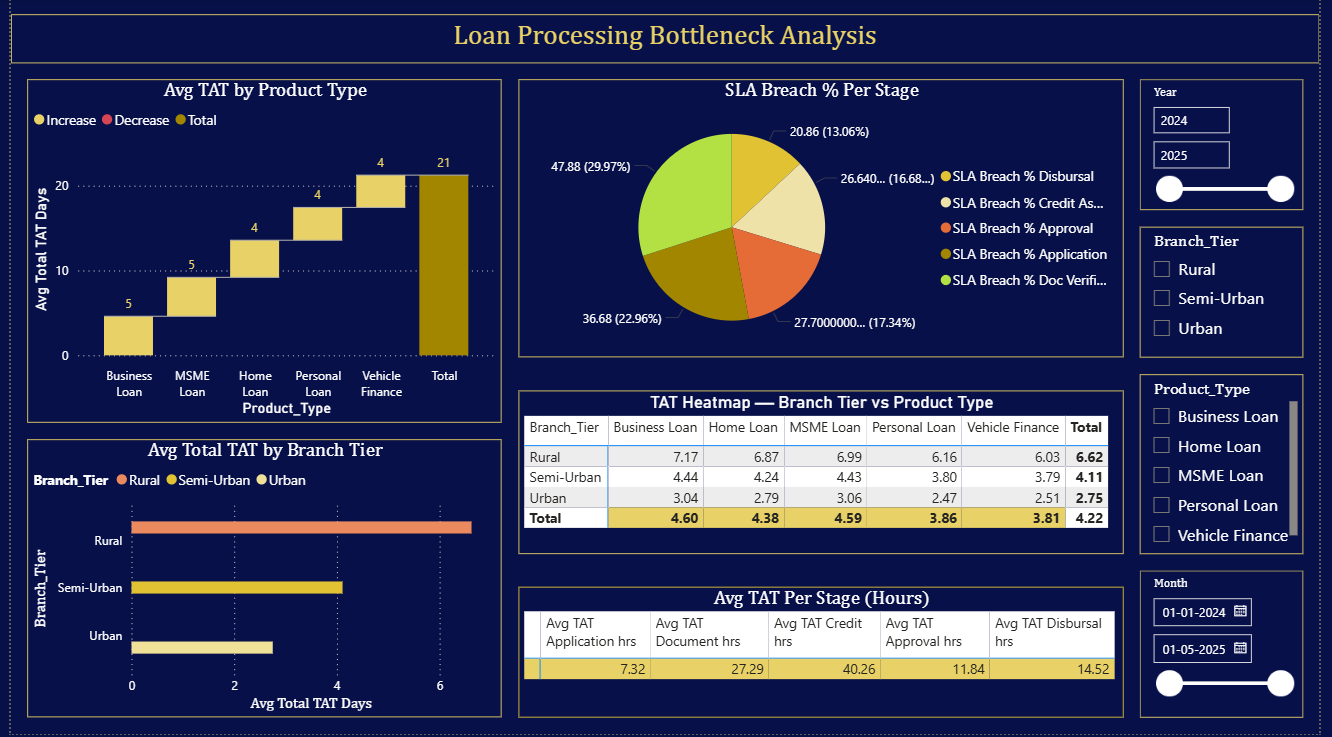

The page's visual inventory and layout, read from the dashboard file:
{"tool":"powerbi","page":{"name":"Bottleneck Deep Dive","canvas":[1280,720],"ordinal":1},"visuals":[{"type":"textbox","box":[0,16,1280,48],"z":0},{"type":"pivotTable","title":"Avg TAT Per Stage (Hours)","fields":{"Values":["AU_Bank_Loan_Operations_Data.Avg TAT Application hrs","AU_Bank_Loan_Operations_Data.Avg TAT Document hrs","AU_Bank_Loan_Operations_Data.Avg TAT Credit hrs","AU_Bank_Loan_Operations_Data.Avg TAT Approval hrs","AU_Bank_Loan_Operations_Data.Avg TAT Disbursal hrs"]},"box":[496,576,592,128],"z":1000},{"type":"clusteredBarChart","title":"Avg Total TAT by Branch Tier","fields":{"Category":["AU_Bank_Loan_Operations_Data.Branch_Tier"],"Y":["AU_Bank_Loan_Operations_Data.Avg Total TAT Days"],"Series":["AU_Bank_Loan_Operations_Data.Branch_Tier"]},"box":[16,432,464,272],"z":2000},{"type":"pieChart","title":"SLA Breach % Per Stage","fields":{"Y":["AU_Bank_Loan_Operations_Data.SLA Breach % Disbursal","AU_Bank_Loan_Operations_Data.SLA Breach % Credit Assessment","AU_Bank_Loan_Operations_Data.SLA Breach % Approval","AU_Bank_Loan_Operations_Data.SLA Breach % Application","AU_Bank_Loan_Operations_Data.SLA Breach % Doc Verification"]},"box":[496,80,592,272],"z":3000},{"type":"waterfallChart","title":"Avg TAT by Product Type","fields":{"Category":["AU_Bank_Loan_Operations_Data.Product_Type"],"Y":["AU_Bank_Loan_Operations_Data.Avg Total TAT Days"]},"box":[16,80,464,336],"z":4000},{"type":"pivotTable","title":"TAT Heatmap — Branch Tier vs Product Type","fields":{"Columns":["AU_Bank_Loan_Operations_Data.Product_Type"],"Rows":["AU_Bank_Loan_Operations_Data.Branch_Tier"],"Values":["AU_Bank_Loan_Operations_Data.Avg Total TAT Days"]},"box":[496,384,592,160],"z":5000},{"type":"slicer","fields":{"Values":["AU_Bank_Loan_Operations_Data.Branch_Tier"]},"box":[1104,224,160,128],"z":6000},{"type":"slicer","fields":{"Values":["AU_Bank_Loan_Operations_Data.Product_Type"]},"box":[1104,368,160,176],"z":7000},{"type":"slicer","fields":{"Values":["AU_Bank_Loan_Operations_Data.Month"]},"box":[1104,560,160,144],"z":8000},{"type":"slicer","fields":{"Values":["DateTable.Year"]},"box":[1104,80,160,128],"z":9000}]}

Visuals, with their boxes in screenshot pixels (x1, y1, x2, y2), scaled from the page's 1280x720 canvas onto the 1332x737 screenshot:
textbox: [0, 16, 1331, 66]
"Avg TAT Per Stage (Hours)" pivotTable: [516, 590, 1132, 721]
"Avg Total TAT by Branch Tier" clusteredBarChart: [17, 442, 499, 721]
"SLA Breach % Per Stage" pieChart: [516, 82, 1132, 360]
"Avg TAT by Product Type" waterfallChart: [17, 82, 499, 426]
"TAT Heatmap — Branch Tier vs Product Type" pivotTable: [516, 393, 1132, 557]
slicer - AU_Bank_Loan_Operations_Data.Branch_Tier: [1149, 229, 1315, 360]
slicer - AU_Bank_Loan_Operations_Data.Product_Type: [1149, 377, 1315, 557]
slicer - AU_Bank_Loan_Operations_Data.Month: [1149, 573, 1315, 721]
slicer - DateTable.Year: [1149, 82, 1315, 213]
